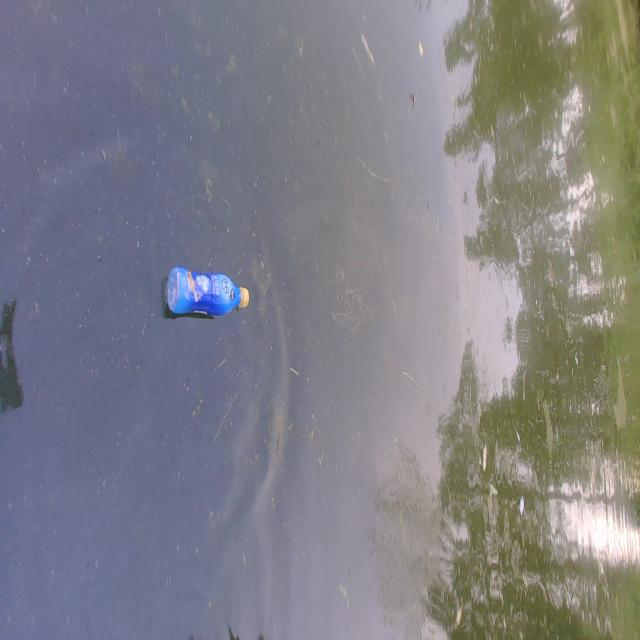Bottle: (162, 261, 252, 327)
